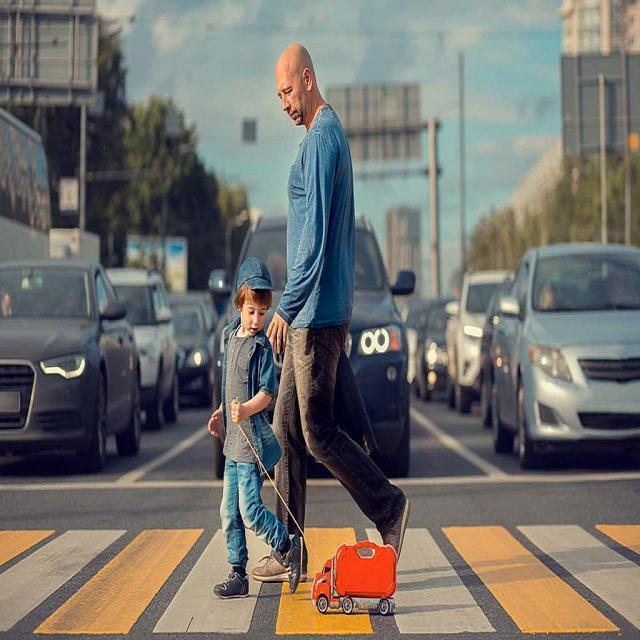person: (205, 260, 308, 606)
